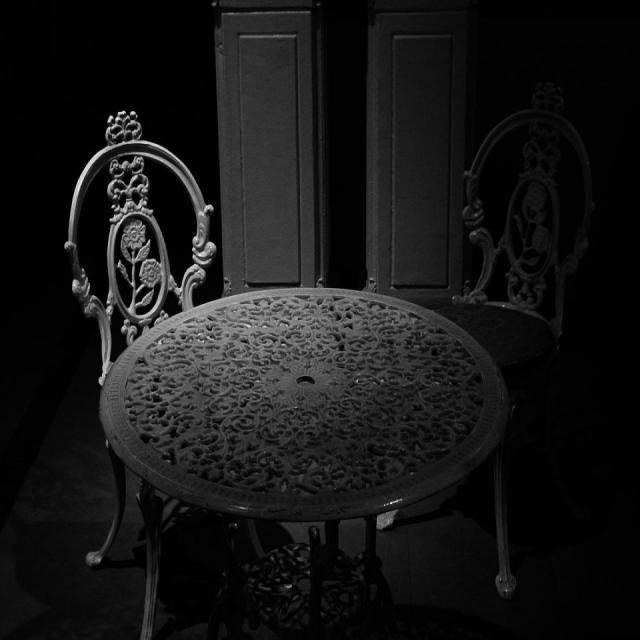Table: (90, 282, 532, 640)
chair: (52, 90, 214, 429), (459, 103, 613, 435)
